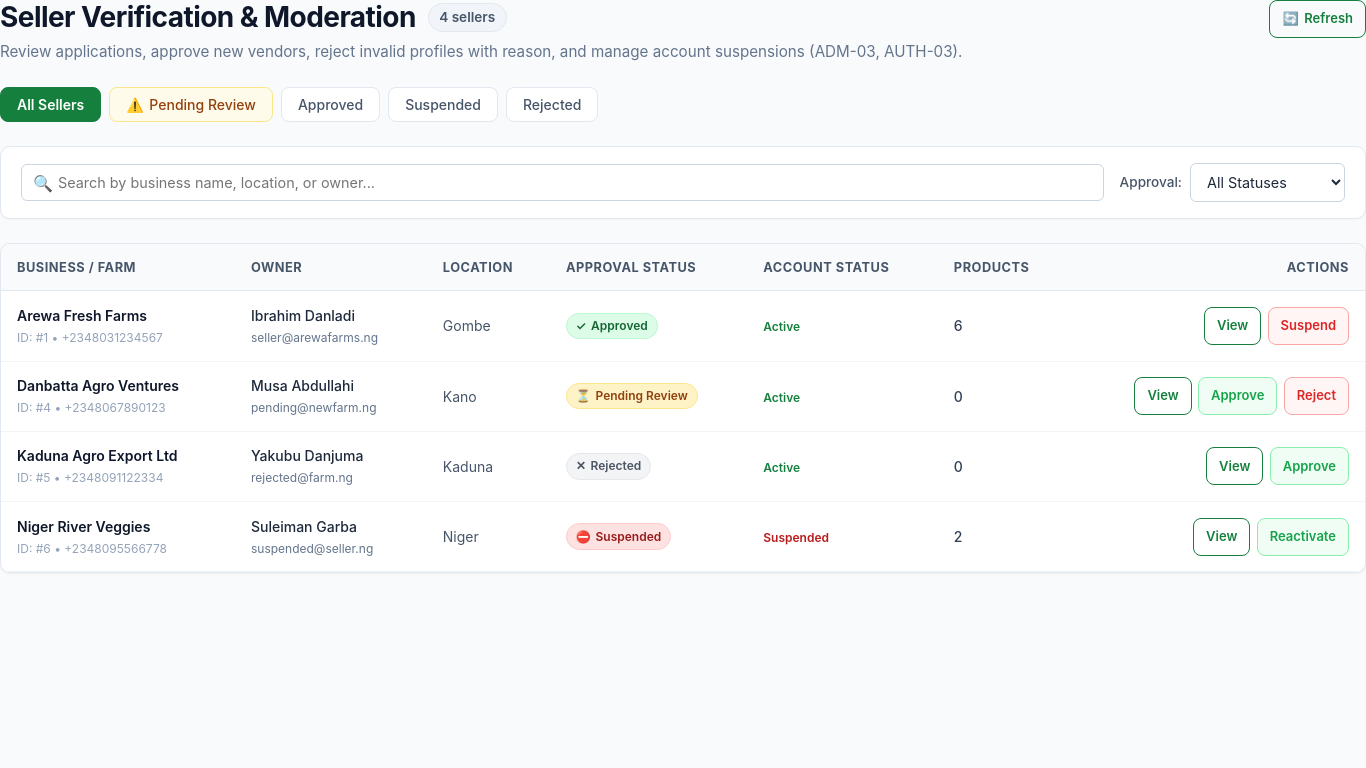
FE-098 / ADM-03: Admin Sellers Moderation Page › 7. View Seller Profile Modal (Figma Section 14) › opens view seller modal displaying full profile, location, and rejection notes
Click View on rejected seller 5 (Kaduna Agro Export Ltd)
Click the button with test id "view-seller-btn-5" at (1235, 466), box [1206, 447, 1263, 485]
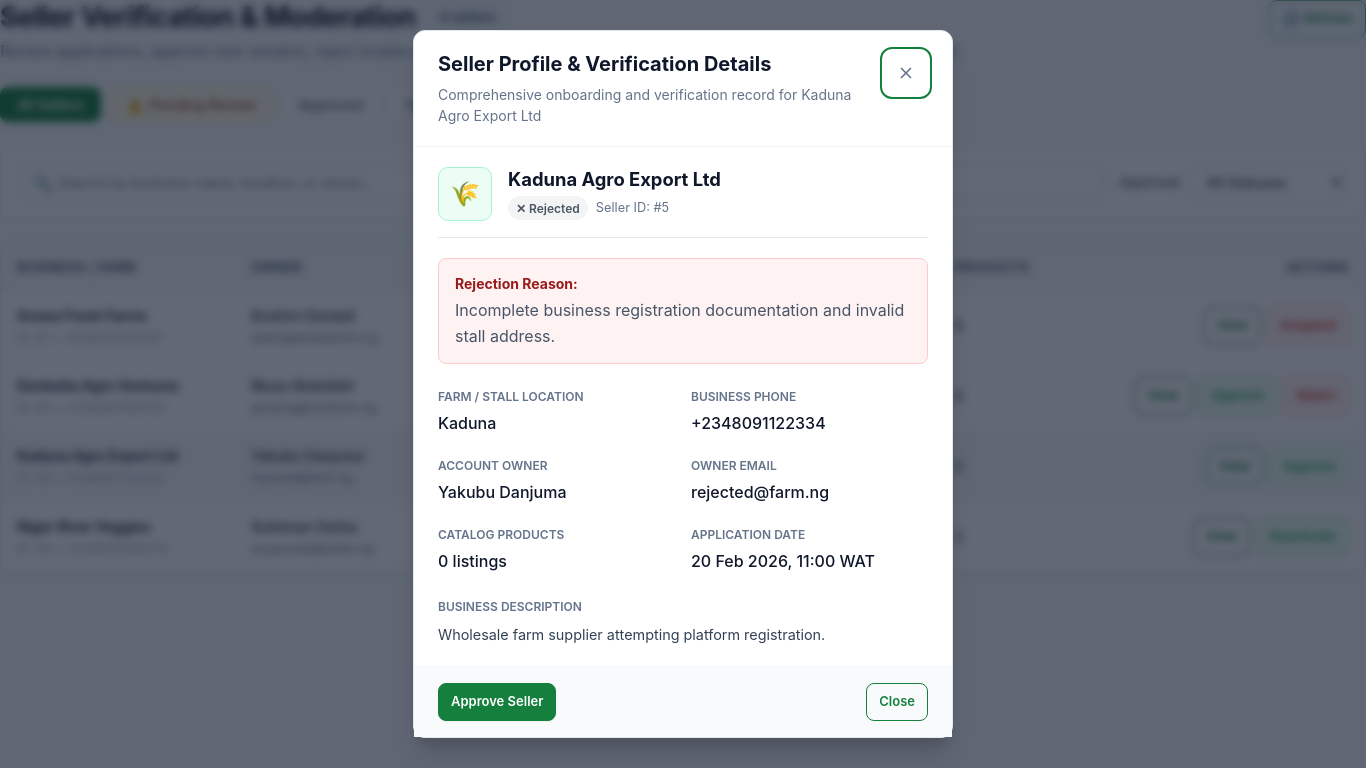
Check: the dialog with test id "view-seller-modal" is shown, box [413, 30, 953, 738]
Check: the heading with test id "modal-business-name" reads "Kaduna Agro Export Ltd", box [508, 168, 721, 190]
Check: the text with test id "modal-seller-location" reads "Kaduna", box [438, 413, 496, 433]
Close modal
Click the button with test id "modal-close-btn" at (897, 702), box [866, 682, 928, 720]
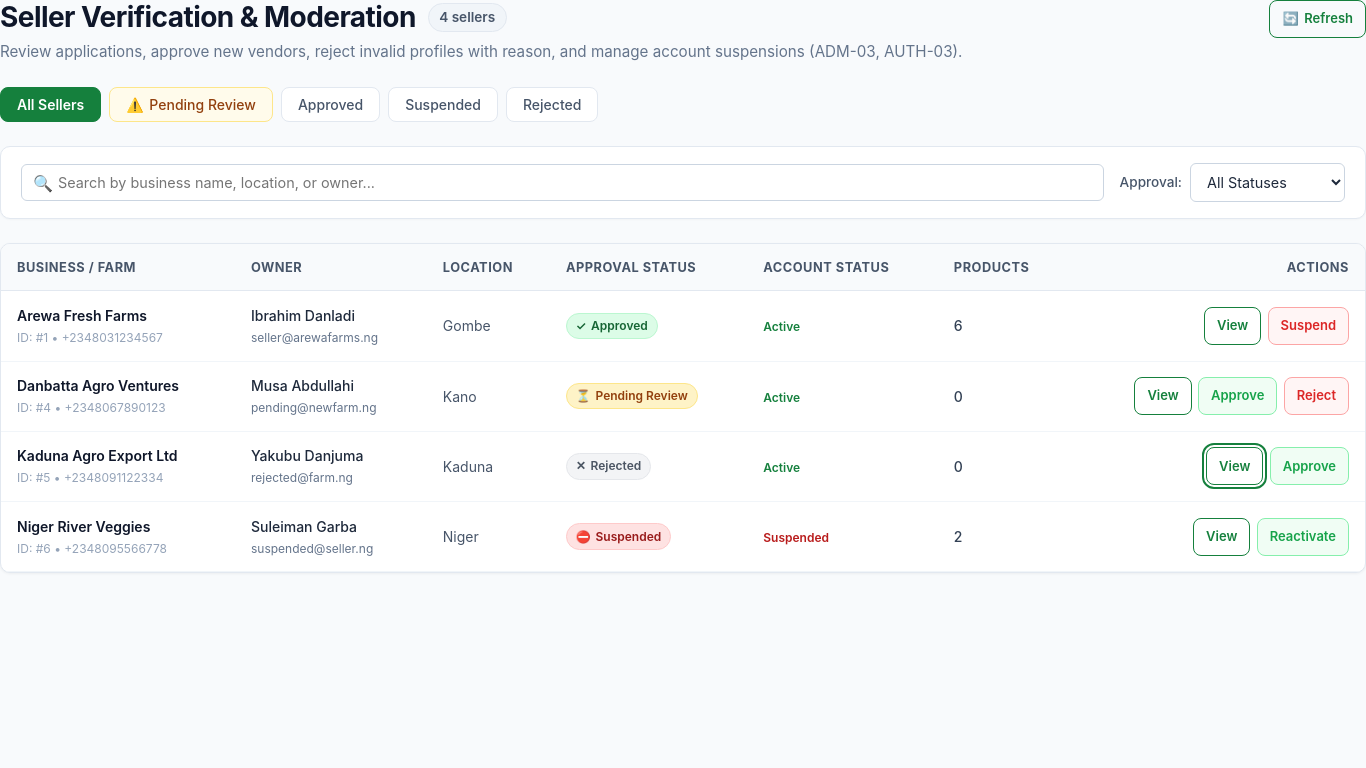
Check: the dialog with test id "view-seller-modal" is gone
